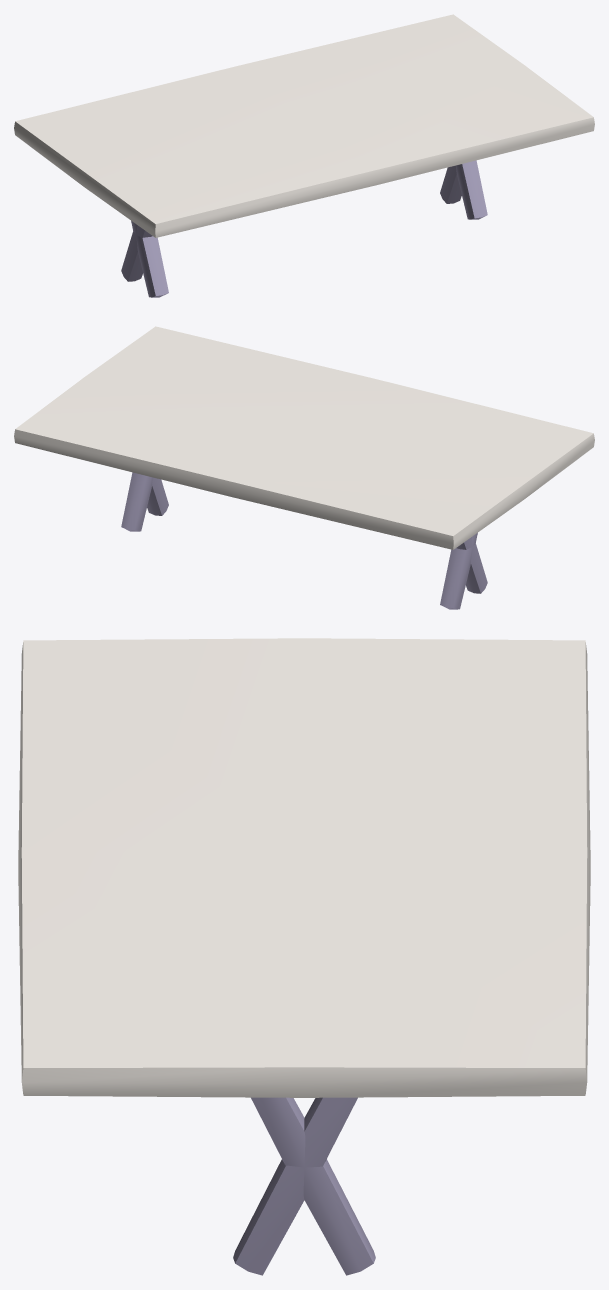
Rendered from folding-table.glb.
3 renders of one model, top to bottom at view 1: azimuth 30°, elevation 25°; view 2: azimuth 150°, elevation 25°; view 3: azimuth 270°, elevation 25°, orthographic. The views are drawn at different scales.
Parts seen in each view (by area): view 1: part (×5); view 2: part (×5); view 3: part (×3).
Part boxes in pixels (x1=…): part (×5): x1=14, y1=14, x2=594, y2=297; part (×5): x1=14, y1=326, x2=594, y2=609; part (×3): x1=18, y1=638, x2=590, y2=1275.
Bounding box in the file's own units: 2.5 × 0.7177 × 1.4.
Materials: 1 (1 with a texture image).
